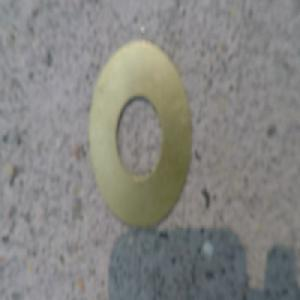Washer: (88, 46, 191, 230)
